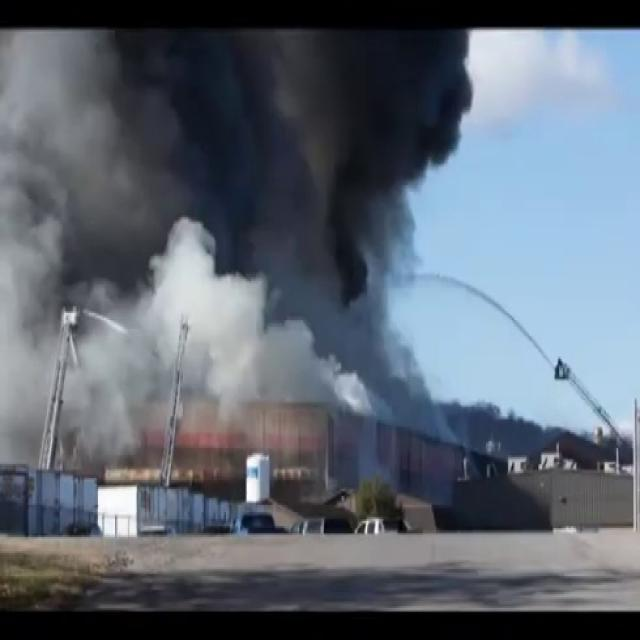Smoke: (1, 29, 477, 424)
